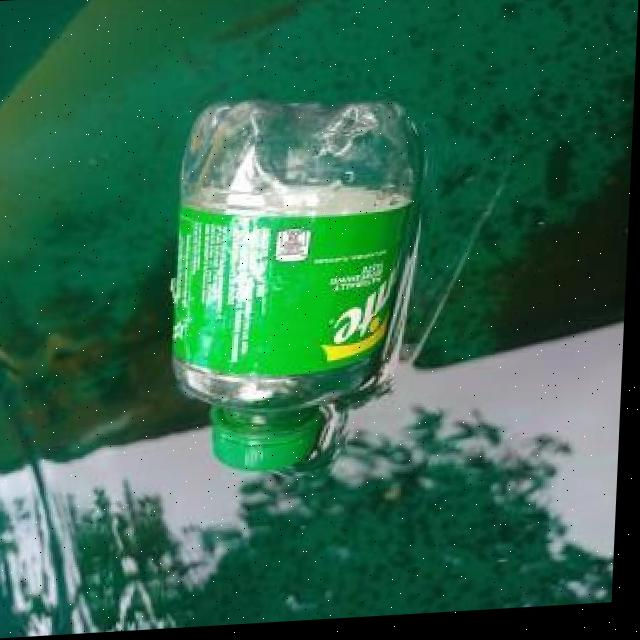bottle: (158, 88, 431, 488)
